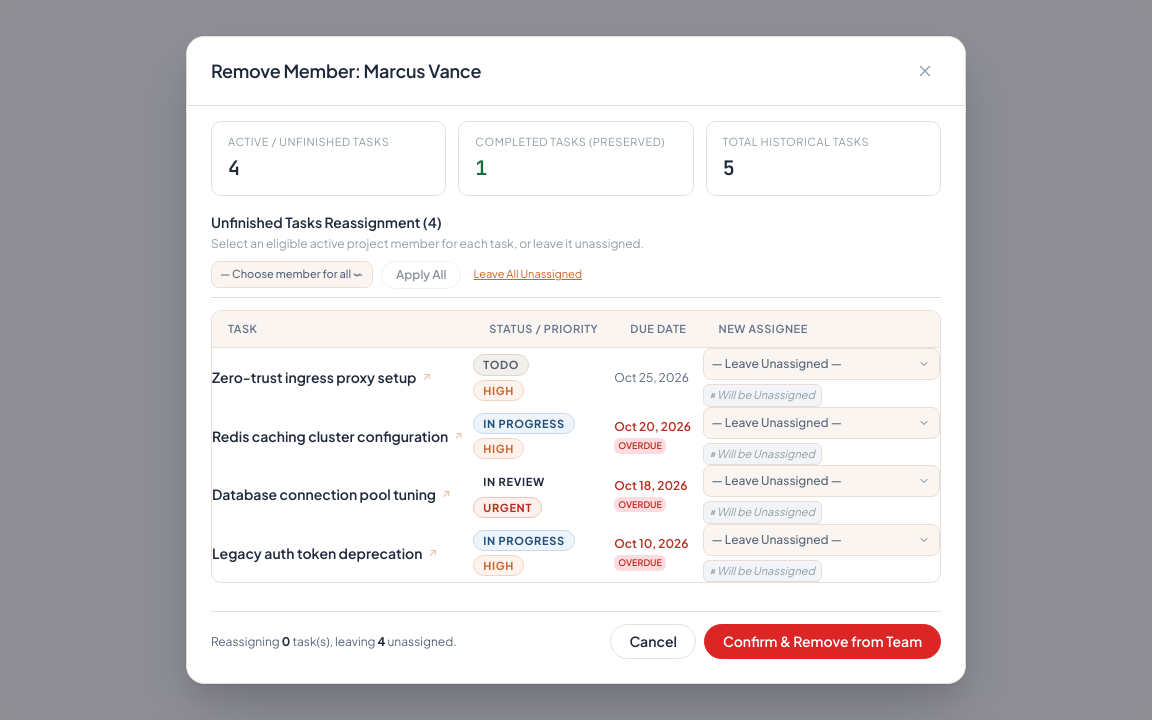
Scenario: RemoveMemberConfirmModal UI Component › displays the inner view of the task (TaskDetailModal) when user clicks on a task title
(page scrolled)
# Click on the task title button for "Legacy auth token deprecation"
Click the text "Legacy auth token deprecation" at (317,553), box [212,543,422,564]
(page scrolled)
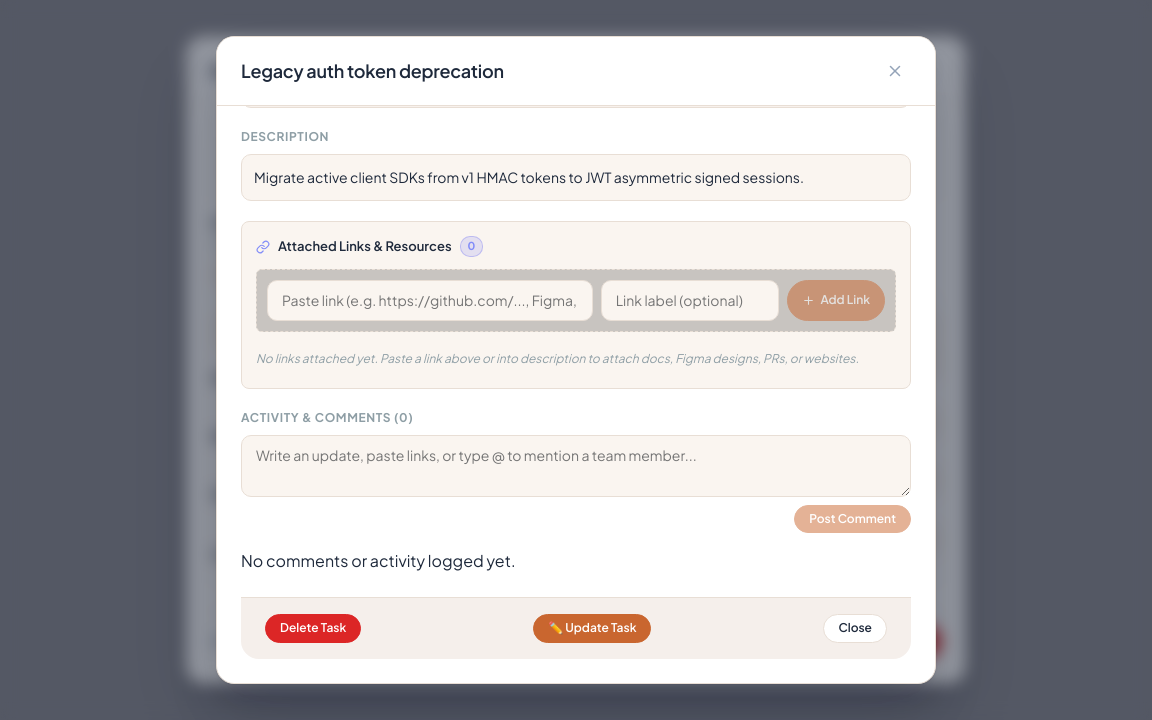
Check: the text "Migrate active client SDKs from v1 HMAC tokens to JWT asymmetric signed sessions" is shown, box [254,168,804,186]
Check: the heading "Activity & Comments (0)" is shown, box [241,410,413,425]
Check: the button "✏️ Update Task" is shown, box [548,621,636,636]
